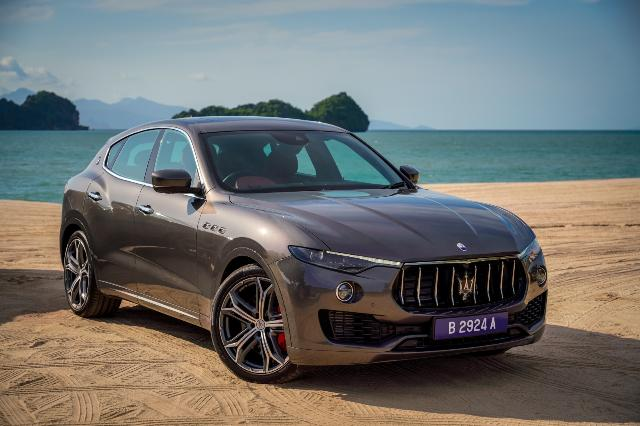maserati: (59, 116, 548, 384)
